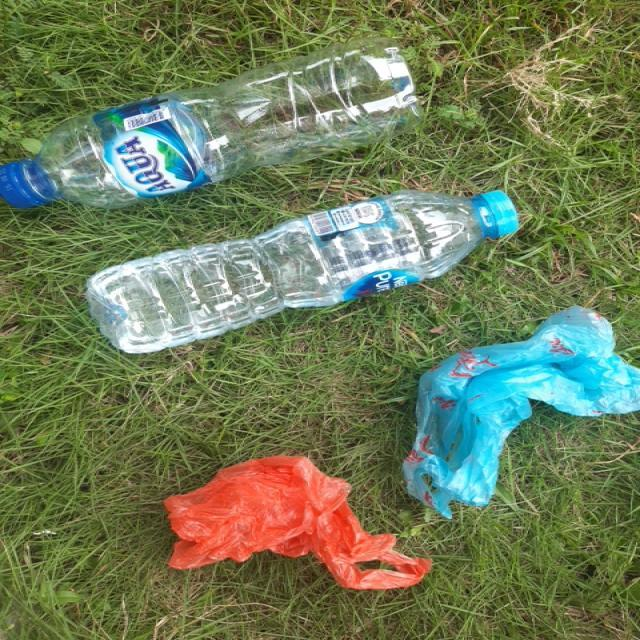Single-layer Plastic: (404, 306, 640, 518), (164, 456, 431, 589)
